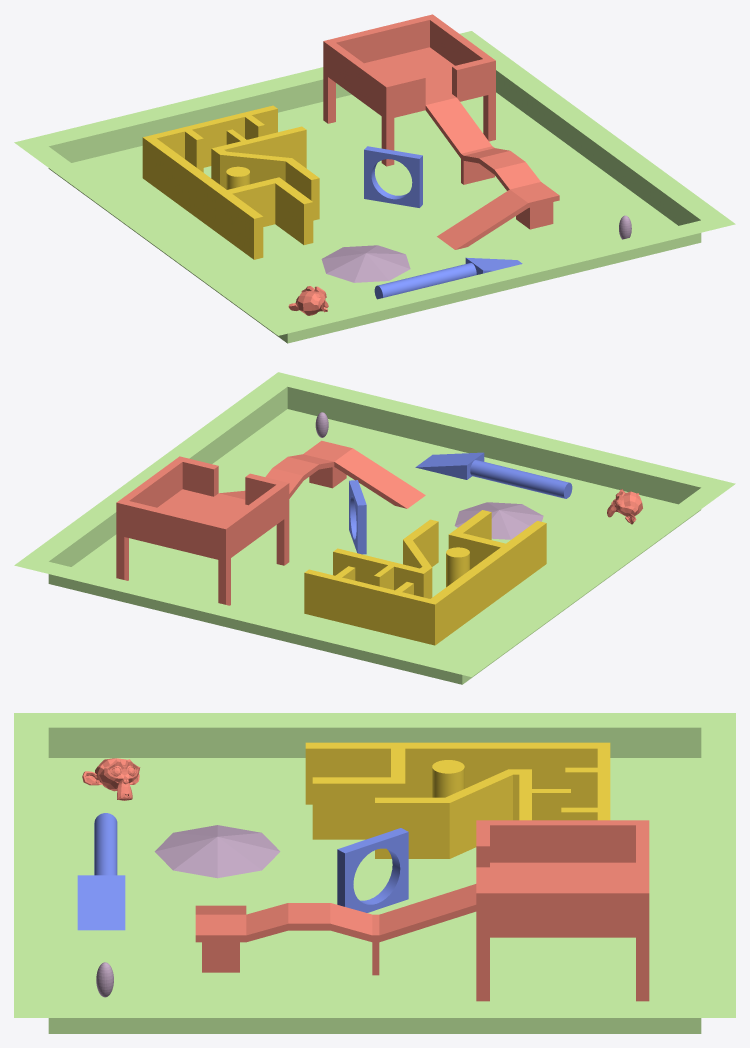
The picture shows the model from 3 angles, top to bottom: view 1: azimuth 30°, elevation 25°; view 2: azimuth 150°, elevation 25°; view 3: azimuth 270°, elevation 25°; orthographic projection. The views are drawn at different scales.
Visible parts, largest first — view 1: Plane, Cube.001, Cube, Cone, Cube.002, Cylinder, Suzanne, Cube.003; view 2: Plane, Cube.001, Cube, Cone, Cylinder, Cube.003, Cube.002, Suzanne; view 3: Plane, Cube.001, Cube, Cone, Cube.002, Cube.003, Suzanne, Cylinder.
Boxes of the visible parts, x1=… form: Plane: x1=14, y1=31, x2=735, y2=343; Cube.001: x1=323, y1=14, x2=559, y2=249; Cube: x1=142, y1=105, x2=319, y2=259; Cone: x1=321, y1=245, x2=410, y2=282; Cube.002: x1=364, y1=146, x2=422, y2=207; Cylinder: x1=374, y1=263, x2=476, y2=299; Suzanne: x1=288, y1=286, x2=328, y2=315; Cube.003: x1=465, y1=257, x2=522, y2=274; Plane: x1=14, y1=372, x2=735, y2=684; Cube.001: x1=116, y1=440, x2=425, y2=605; Cube: x1=304, y1=510, x2=546, y2=645; Cone: x1=454, y1=502, x2=543, y2=539; Cylinder: x1=470, y1=460, x2=572, y2=498; Cube.003: x1=415, y1=452, x2=484, y2=479; Cube.002: x1=349, y1=480, x2=366, y2=554; Suzanne: x1=607, y1=489, x2=642, y2=524; Plane: x1=14, y1=713, x2=735, y2=1033; Cube.001: x1=195, y1=820, x2=649, y2=1001; Cube: x1=305, y1=742, x2=610, y2=858; Cone: x1=154, y1=825, x2=280, y2=878; Cube.002: x1=337, y1=828, x2=408, y2=912; Cube.003: x1=77, y1=875, x2=125, y2=930; Suzanne: x1=82, y1=758, x2=140, y2=800; Cylinder: x1=94, y1=813, x2=117, y2=875.
Bounding box in the file's own units: 30.44 × 5.08 × 30.44.
